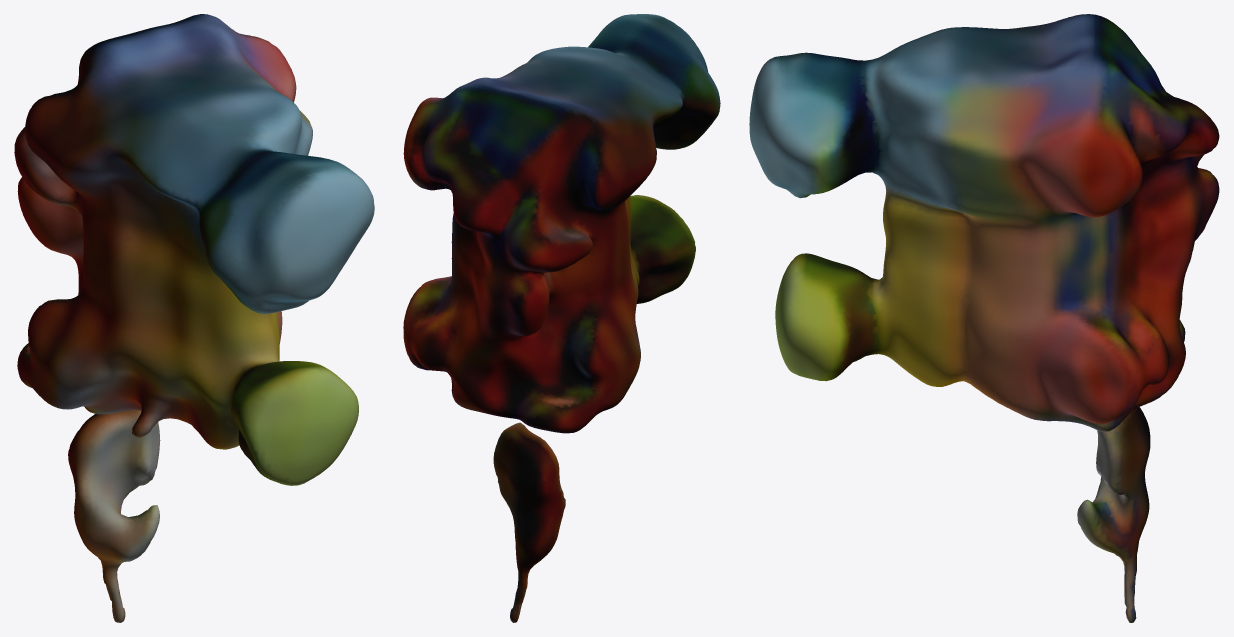
The model's file is train.glb.
3 views of the same model, side by side, from view 1: azimuth 30°, elevation 25°; view 2: azimuth 150°, elevation 25°; view 3: azimuth 270°, elevation 25° (orthographic). The views are drawn at different scales.
Size of the model in its own units: 0.4299 by 0.997 by 0.7163.
